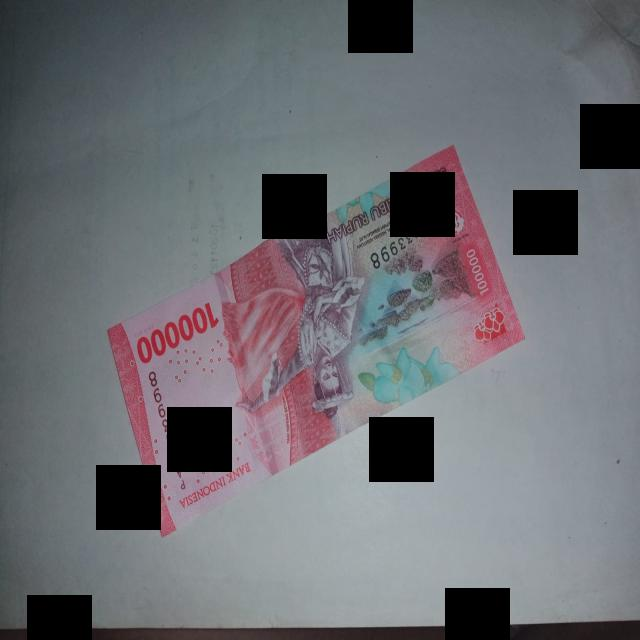seratusribu rupiah: (109, 147, 524, 535)
